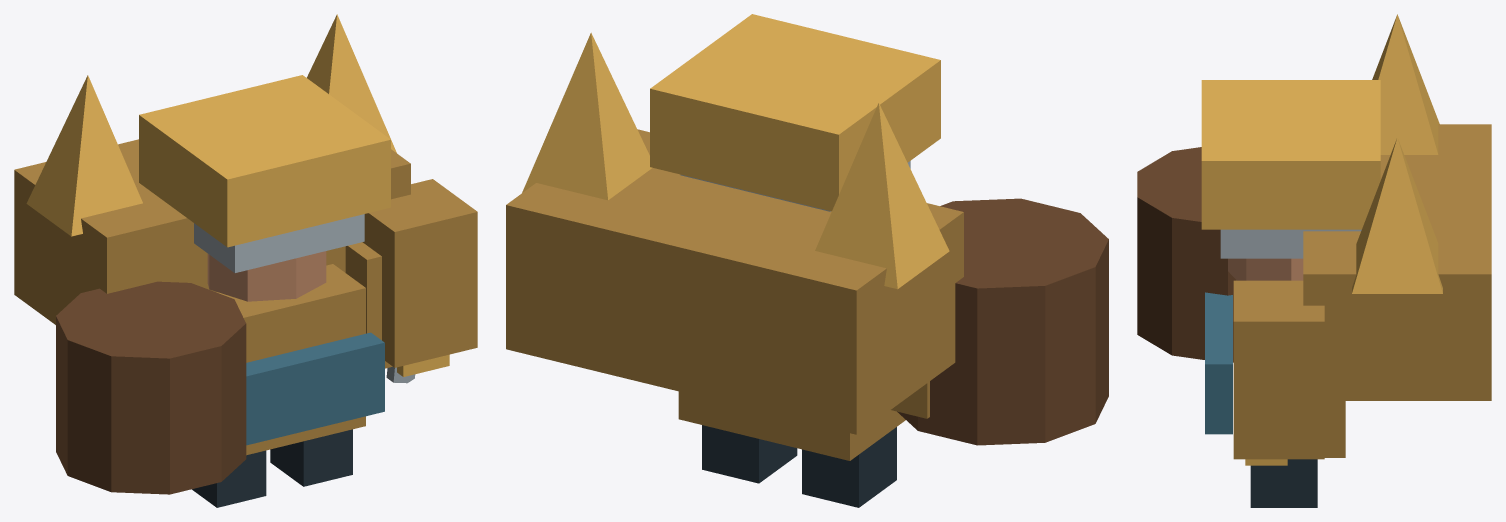
Rendered from heavy-mobile.obj.
The picture shows the model from 3 angles, left to right: view 1: azimuth 30°, elevation 25°; view 2: azimuth 150°, elevation 25°; view 3: azimuth 270°, elevation 25°; orthographic projection. The views are drawn at different scales.
Visible parts, largest first — view 1: infantry; view 2: infantry; view 3: infantry.
Boxes of the visible parts, x1,y1,x2,y2 form: infantry: [14, 14, 477, 507]; infantry: [506, 14, 1108, 507]; infantry: [1137, 14, 1491, 507].
Bounding box in the file's own units: 1.59 × 1.45 × 1.17.
